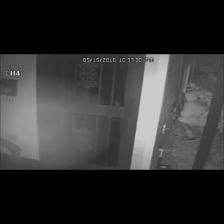person: (178, 91, 208, 137)
